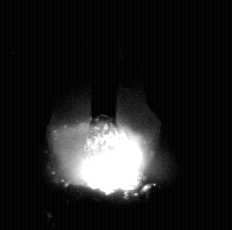arame: (91, 0, 118, 126)
poca: (48, 0, 160, 230)
